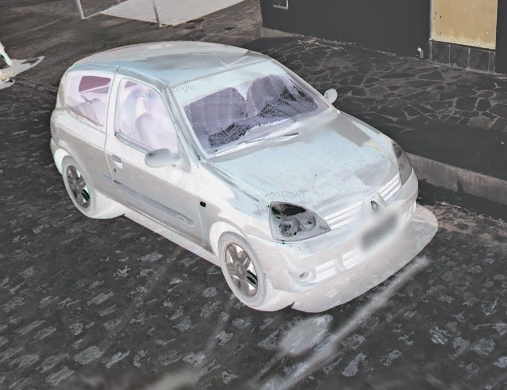car: (49, 39, 421, 312)
